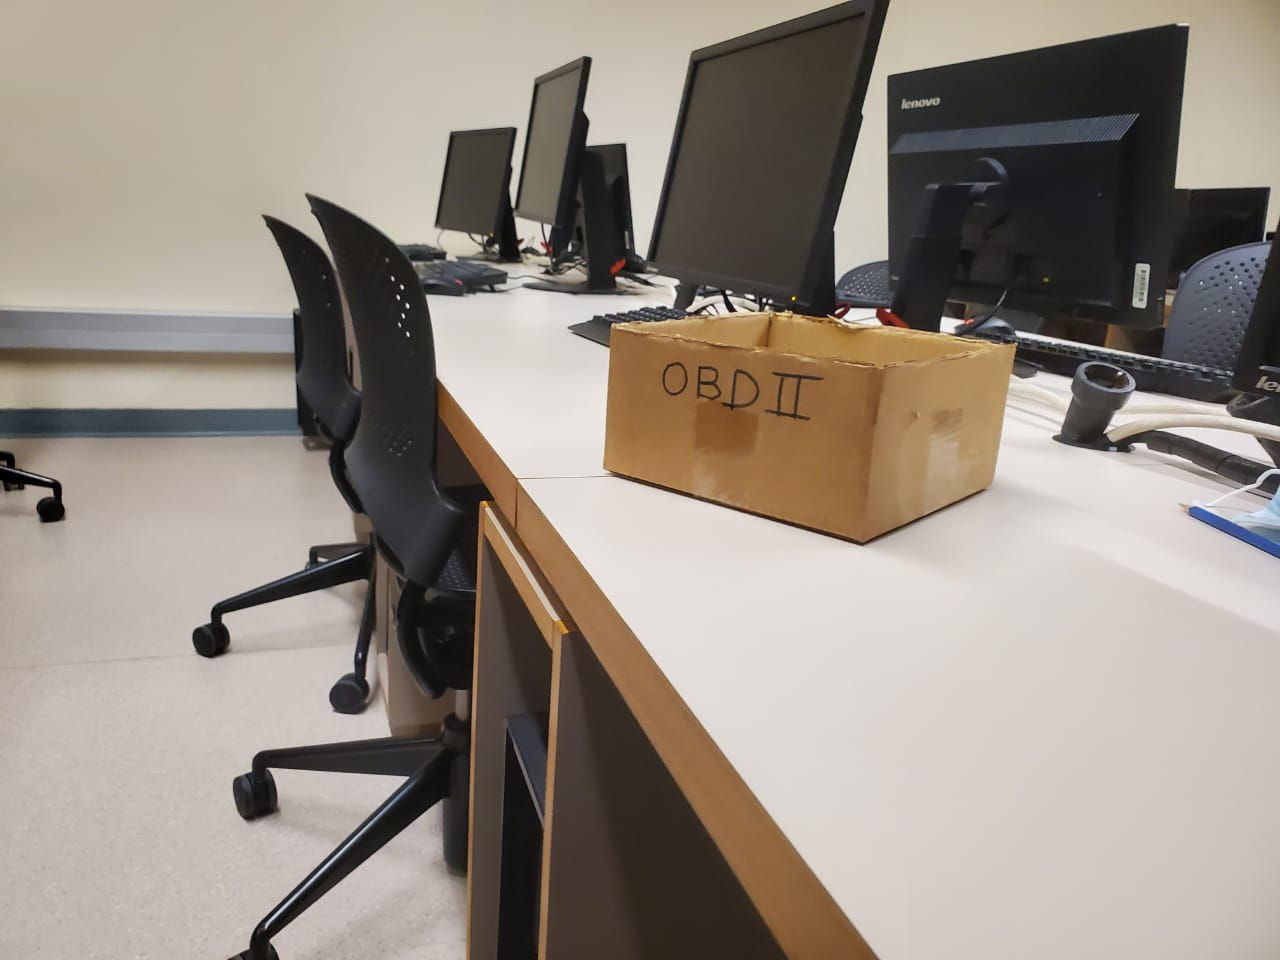CBox: (595, 305, 1029, 549)
